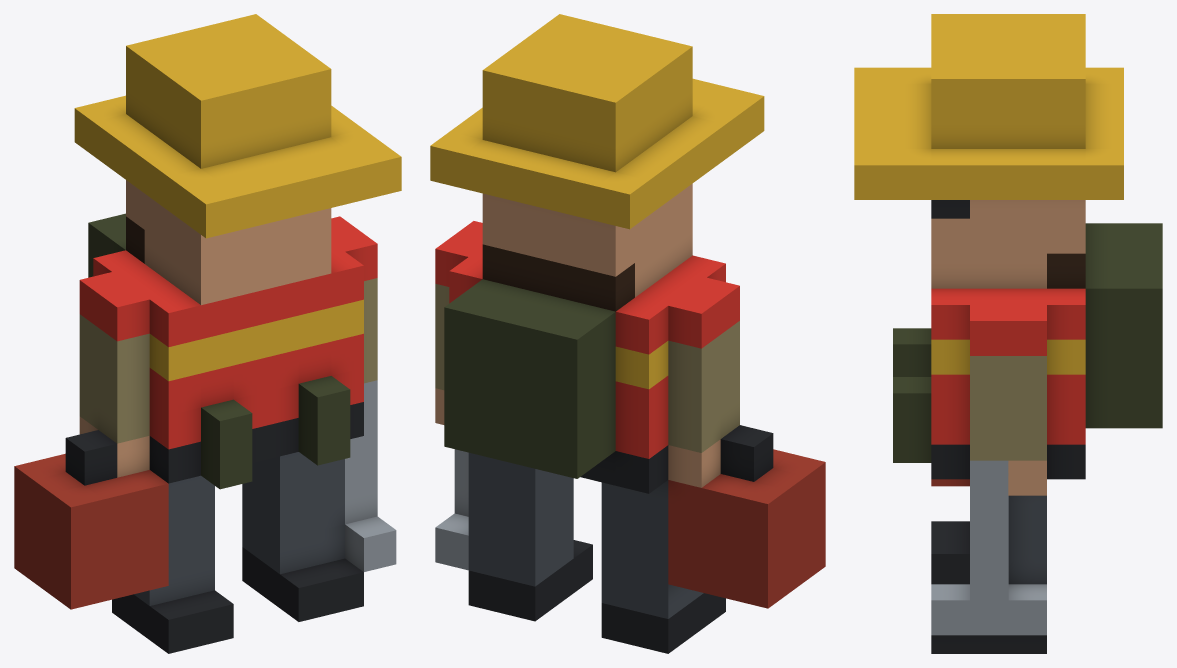
The model's file is cm_engineer_0.glb.
3 renders of one model, left to right at view 1: azimuth 30°, elevation 25°; view 2: azimuth 150°, elevation 25°; view 3: azimuth 270°, elevation 25°, orthographic. The views are drawn at different scales.
Parts seen in each view (by area): view 1: cm_engineer_0_body; view 2: cm_engineer_0_body; view 3: cm_engineer_0_body.
Boxes of the visible parts, left/top/right/bottom form: cm_engineer_0_body: left=14, top=14, right=401, bottom=653; cm_engineer_0_body: left=430, top=14, right=825, bottom=653; cm_engineer_0_body: left=854, top=14, right=1162, bottom=653.
Size of the model in its own units: 0.625 by 1 by 0.5.
1 material, 1 textured.
